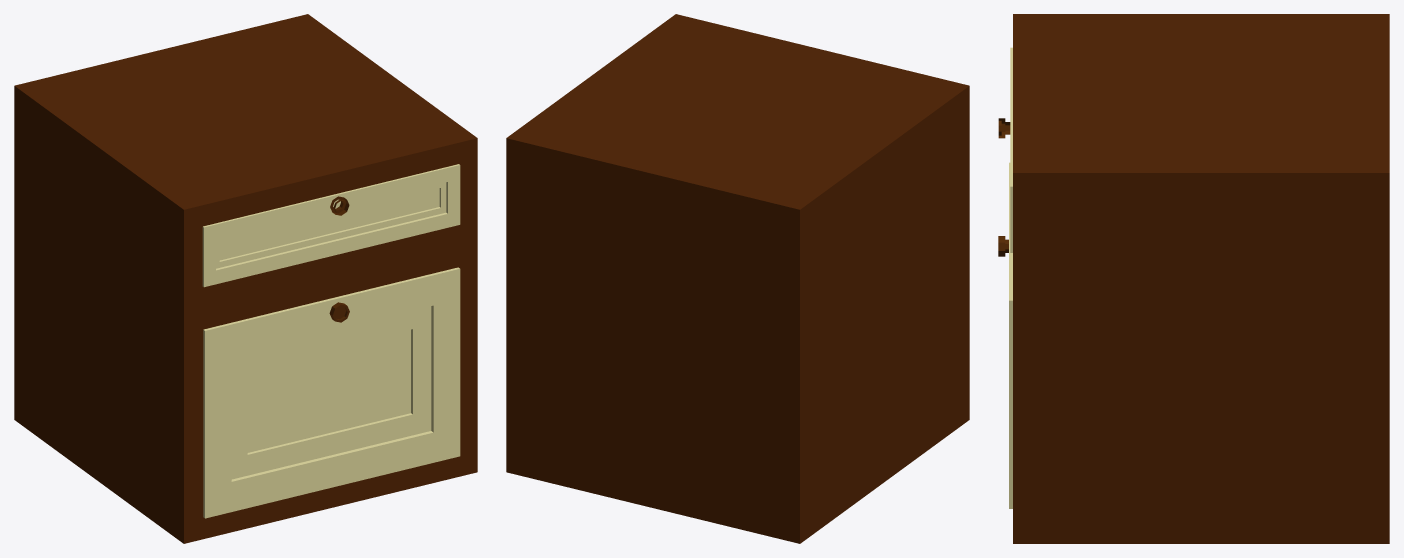
File: Cabeceira.fbx
3 renders of one model, left to right at view 1: azimuth 30°, elevation 25°; view 2: azimuth 150°, elevation 25°; view 3: azimuth 270°, elevation 25°, orthographic. The views are drawn at different scales.
Parts seen in each view (by area): view 1: Cube.060; view 2: Cube.060; view 3: Cube.060.
Part boxes in pixels (x1,y1,x2,y2): Cube.060: [14, 14, 477, 543]; Cube.060: [506, 14, 969, 543]; Cube.060: [998, 14, 1389, 543].
Size of the model in its own units: 200 by 217 by 208.
